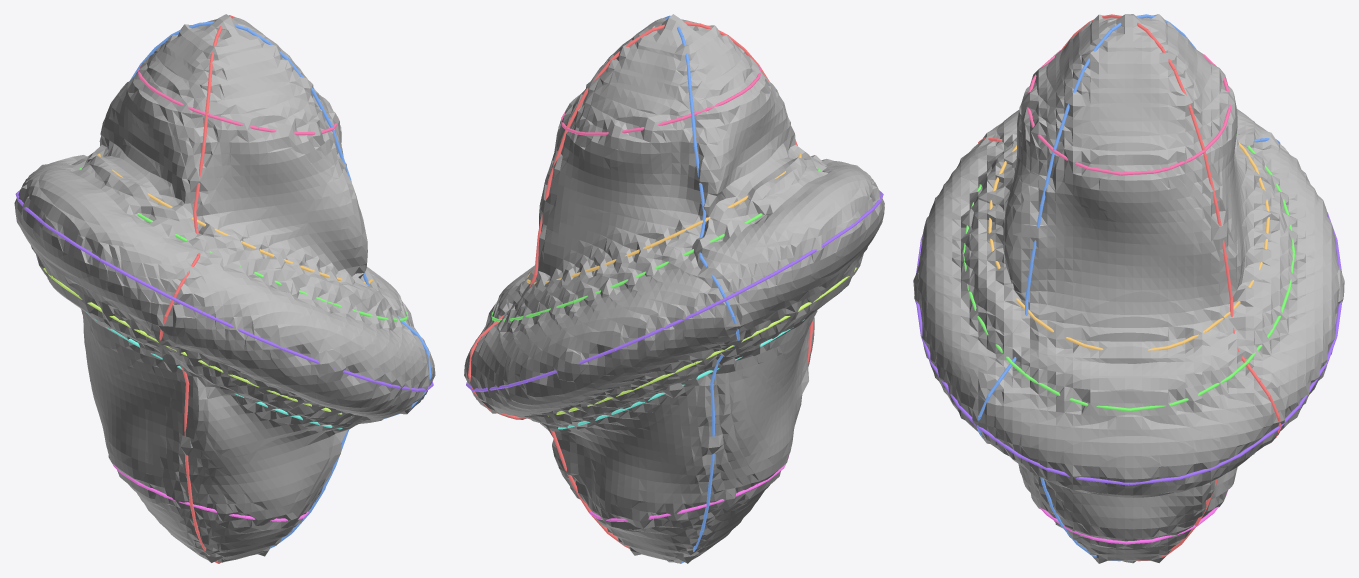
File: flowrep_ellipsetorus.gltf
The picture shows the model from 3 angles, left to right: view 1: azimuth 30°, elevation 25°; view 2: azimuth 150°, elevation 25°; view 3: azimuth 270°, elevation 25°; orthographic projection.
Size of the model in its own units: 0.4987 by 0.7206 by 0.5137.
